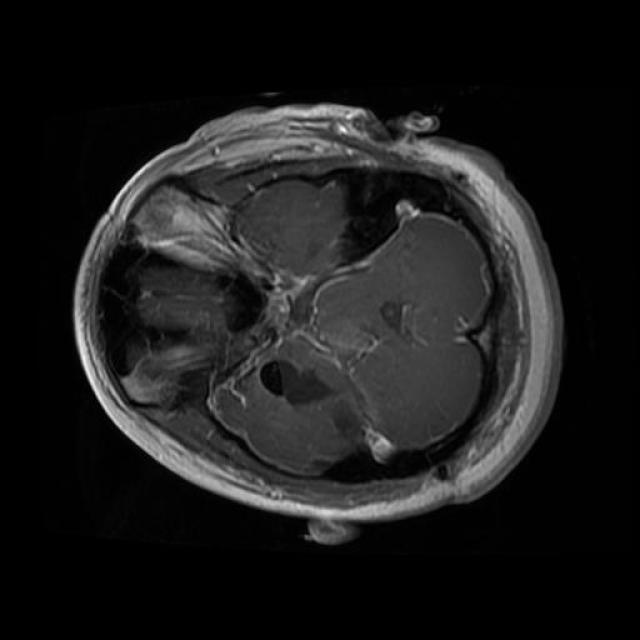Glioma: (260, 360, 366, 449)
